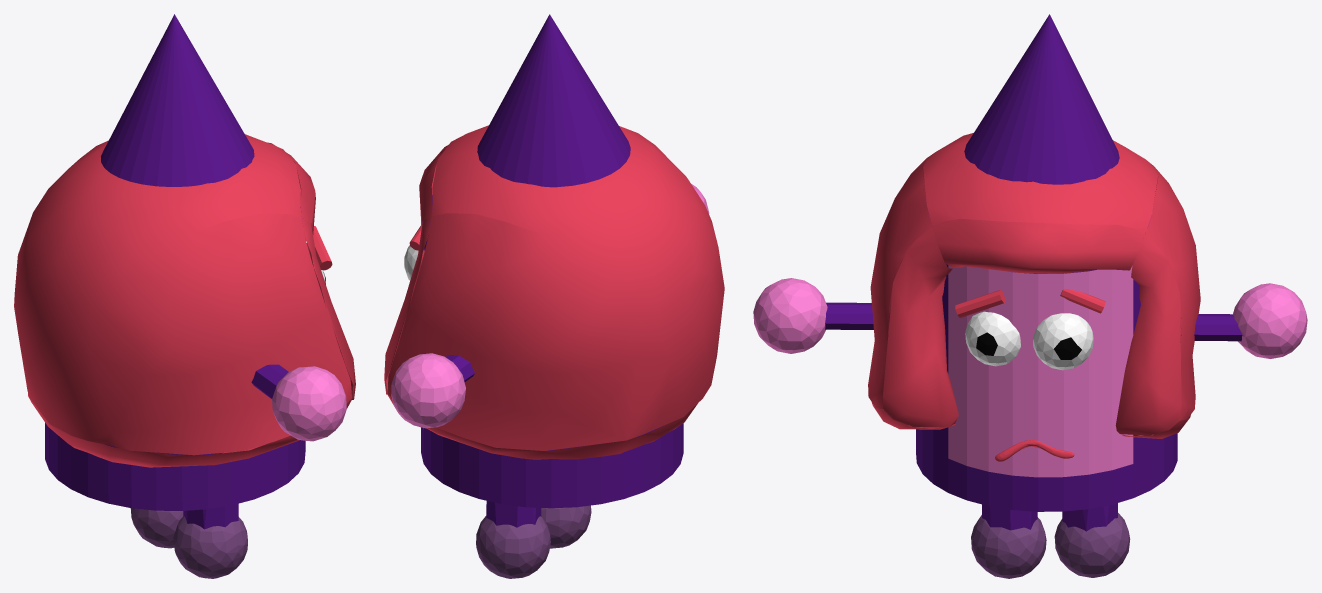
Rendered from girlsG.fbx.
3 renders of one model, left to right at view 1: azimuth 30°, elevation 25°; view 2: azimuth 150°, elevation 25°; view 3: azimuth 270°, elevation 25°, orthographic.
Visible parts, largest first — view 1: node_id30.005, Конус, Цилиндр, Сфера, Сфера.002, Сфера.003, Цилиндр.002, Цилиндр.001, Цилиндр.004; view 2: node_id30.005, Конус, Цилиндр, Сфера.001, Сфера.003, Сфера.002, Цилиндр.003; view 3: node_id30.005, Цилиндр, Конус, Сфера, Сфера.001, Сфера.002, Сфера.003, Сфера.006, Сфера.004, Цилиндр.001, Цилиндр.006, Цилиндр.002 (+2 smaller).
Boxes of the visible parts, left/top/right/bottom form: node_id30.005: left=14, top=134, right=355, bottom=467; Конус: left=101, top=14, right=254, bottom=186; Цилиндр: left=45, top=207, right=305, bottom=510; Сфера: left=272, top=366, right=346, bottom=441; Сфера.002: left=173, top=516, right=247, bottom=578; Сфера.003: left=130, top=508, right=183, bottom=548; Цилиндр.002: left=183, top=503, right=238, bottom=529; Цилиндр.001: left=251, top=364, right=288, bottom=398; Цилиндр.004: left=313, top=226, right=332, bottom=270; node_id30.005: left=384, top=125, right=724, bottom=459; Конус: left=477, top=14, right=630, bottom=187; Цилиндр: left=421, top=195, right=683, bottom=508; Сфера.001: left=391, top=353, right=465, bottom=428; Сфера.003: left=476, top=516, right=550, bottom=578; Сфера.002: left=541, top=505, right=591, bottom=548; Цилиндр.003: left=486, top=501, right=541, bottom=527; node_id30.005: left=868, top=133, right=1200, bottom=438; Цилиндр: left=916, top=189, right=1177, bottom=511; Конус: left=964, top=14, right=1119, bottom=184; Сфера: left=753, top=278, right=827, bottom=353; Сфера.001: left=1233, top=283, right=1307, bottom=358; Сфера.002: left=971, top=515, right=1046, bottom=578; Сфера.003: left=1054, top=513, right=1130, bottom=577; Сфера.006: left=1033, top=313, right=1093, bottom=370; Сфера.004: left=965, top=311, right=1020, bottom=366; Цилиндр.001: left=825, top=302, right=889, bottom=329; Цилиндр.006: left=1181, top=314, right=1242, bottom=341; Цилиндр.002: left=982, top=504, right=1037, bottom=530.
Size of the model in its own units: 247 by 466 by 423.
